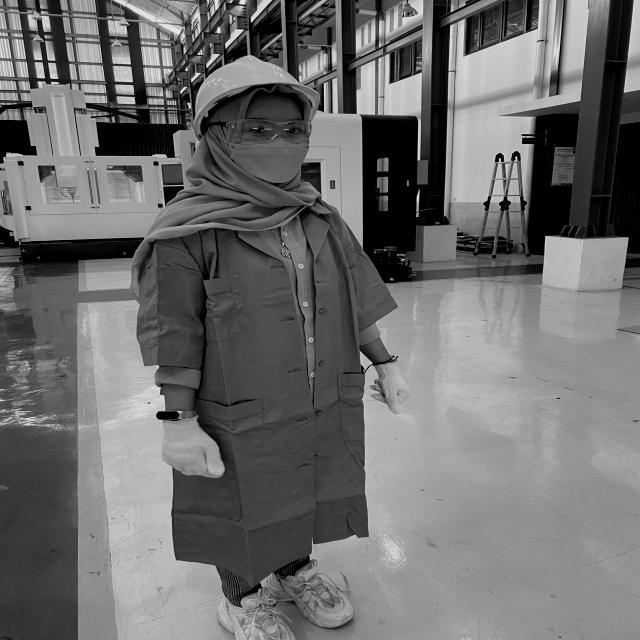face_mask: (229, 116, 314, 182)
glasses: (206, 115, 319, 145)
hand_glove: (156, 414, 237, 484), (363, 358, 421, 409)
head_helmet: (192, 53, 322, 123)
person: (125, 47, 419, 640)
shoes: (257, 552, 361, 628), (208, 578, 307, 640)
